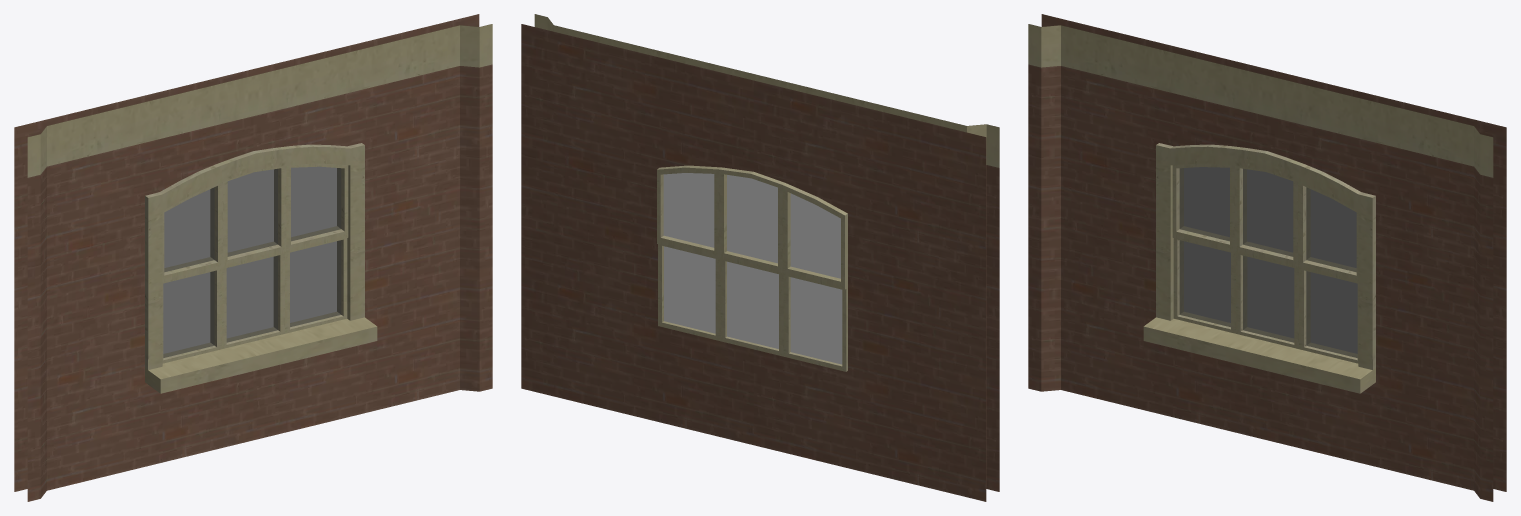
Rendered from Brick_Inset_Window_Curved.glb.
3 views of the same model, side by side, from view 1: azimuth 30°, elevation 25°; view 2: azimuth 150°, elevation 25°; view 3: azimuth 330°, elevation 25° (orthographic).
Parts seen in each view (by area): view 1: Brick_Inset_Window_Curved; view 2: Brick_Inset_Window_Curved; view 3: Brick_Inset_Window_Curved.
Part boxes in pixels (<box>): Brick_Inset_Window_Curved: <box>14,14,492,501</box>; Brick_Inset_Window_Curved: <box>521,14,999,501</box>; Brick_Inset_Window_Curved: <box>1028,14,1506,501</box>.
Size of the model in its own units: 4 by 3 by 0.3735.
Materials: 4 (2 with a texture image).
